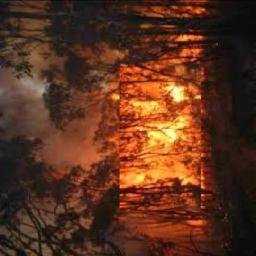Heavy smoke: (0, 0, 100, 253)
Large fire: (103, 0, 225, 255)
